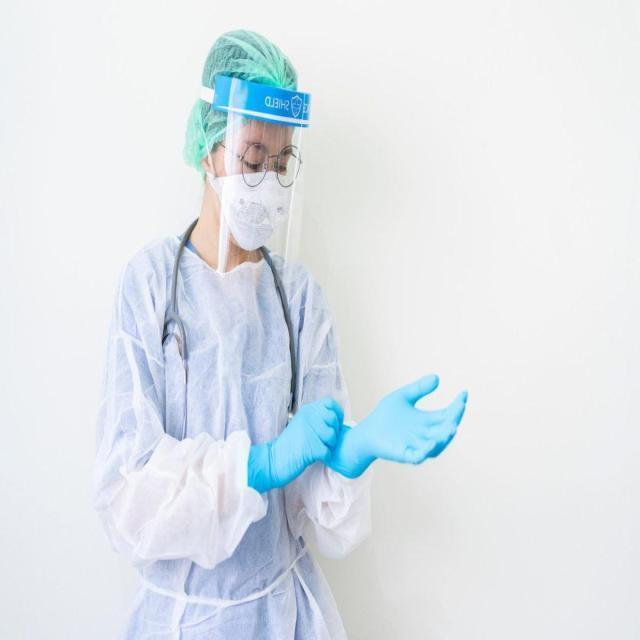gloves: (342, 373, 469, 478), (246, 396, 344, 494)
